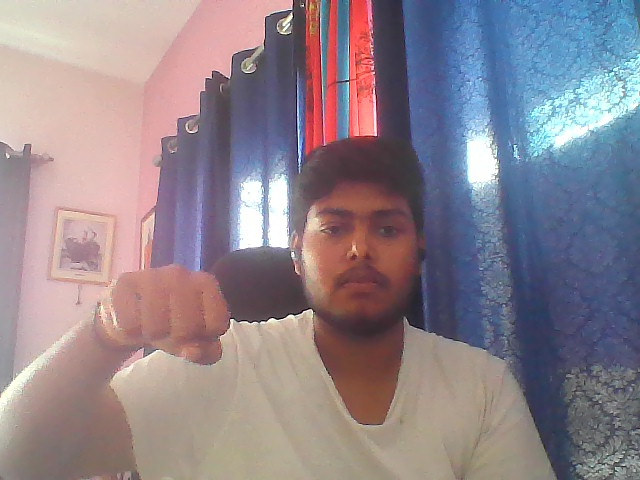Yes: (90, 259, 247, 370)
